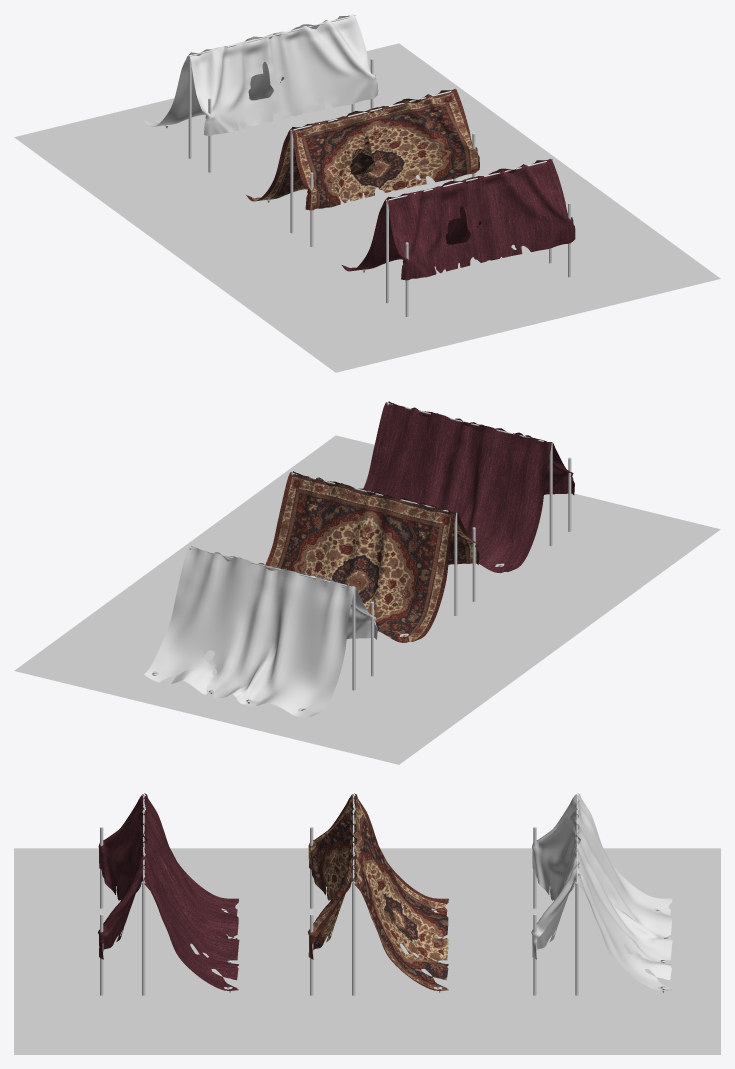
File: cort_V1.fbx
3 views of the same model, one above another, from view 1: azimuth 30°, elevation 25°; view 2: azimuth 150°, elevation 25°; view 3: azimuth 270°, elevation 25° (orthographic). The views are drawn at different scales.
Parts seen in each view (by area): view 1: Plane, Plane.004, Plane.006, Plane.002, Plane.003, Plane.001, Plane.005, Cylinder.002, Cylinder.013, Cylinder.007; view 2: Plane, Plane.001, Plane.003, Plane.005, Plane.006, Plane.004, Plane.002, Cylinder.007, Cylinder.013, Cylinder.002; view 3: Plane, Plane.001, Plane.005, Plane.003, Plane.002, Plane.004, Plane.006, Cylinder.002, Cylinder.013, Cylinder.007.
Boxes of the visible parts, x1,y1,x2,y2 form: Plane: (14, 43, 720, 372); Plane.004: (291, 88, 479, 210); Plane.006: (387, 158, 575, 280); Plane.002: (190, 14, 378, 135); Plane.003: (246, 89, 456, 201); Plane.001: (144, 15, 355, 126); Plane.005: (341, 159, 552, 271); Cylinder.002: (188, 55, 373, 172); Cylinder.013: (386, 199, 570, 316); Cylinder.007: (290, 129, 475, 246); Plane: (14, 435, 720, 764); Plane.001: (144, 547, 354, 717); Plane.003: (265, 472, 456, 642); Plane.005: (363, 402, 551, 573); Plane.006: (388, 401, 574, 494); Plane.004: (293, 471, 479, 564); Plane.002: (191, 545, 377, 639); Cylinder.007: (291, 473, 475, 615); Cylinder.013: (386, 403, 571, 546); Cylinder.002: (189, 548, 373, 690); Plane: (14, 848, 720, 1054); Plane.001: (575, 793, 672, 990); Plane.005: (141, 793, 239, 990); Plane.003: (351, 793, 448, 990); Plane.002: (531, 794, 580, 959); Plane.004: (308, 794, 357, 959); Plane.006: (98, 794, 147, 959); Cylinder.002: (533, 794, 578, 995); Cylinder.013: (100, 794, 145, 995); Cylinder.007: (310, 794, 355, 995).
Bounding box in the file's own units: 2229 × 758 × 3226.
Materials: 5 (2 with a texture image).
